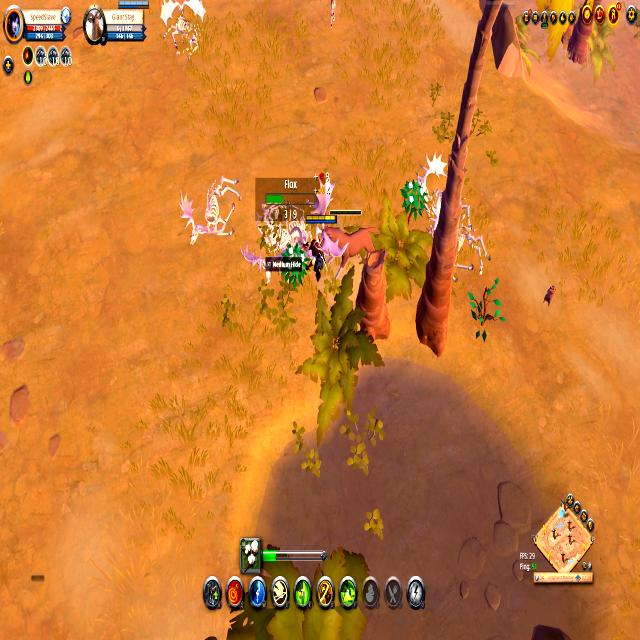hide: (283, 240, 308, 286), (402, 175, 427, 218)
ore: (317, 209, 378, 281)
red: (305, 212, 330, 279), (116, 0, 152, 12)
